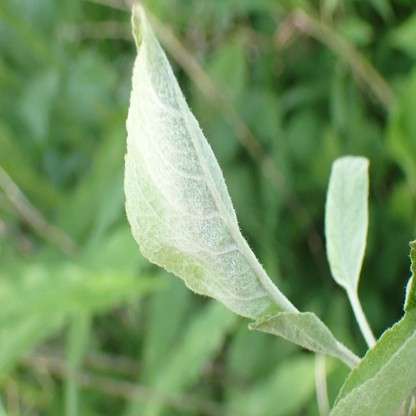powdery_mildew: (126, 1, 279, 317), (325, 155, 369, 292), (248, 311, 334, 353)
